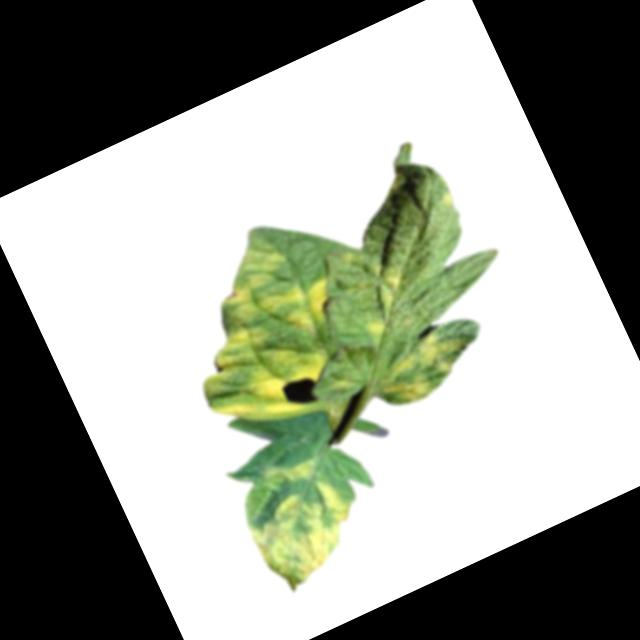Leaf_Mold: (225, 439, 378, 598), (182, 301, 341, 446), (369, 320, 481, 413), (334, 249, 423, 342), (198, 234, 296, 316), (255, 266, 347, 348)
